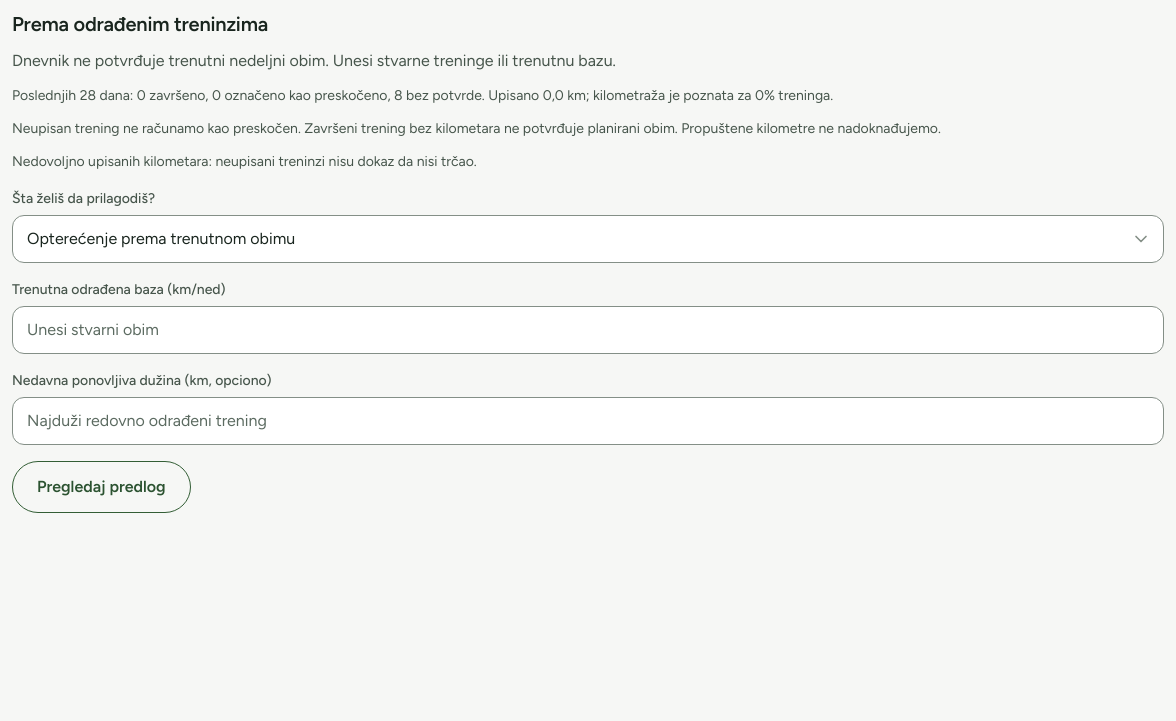
ExecutionAdjustment › pregled prikazuje preostali obim, minute kvalitetnog rada i zahtevne dane
Type "30" into the number field labelled "Trenutna odrađena baza (km/ned)". click: (588, 330)
box: [12,306,1164,354]
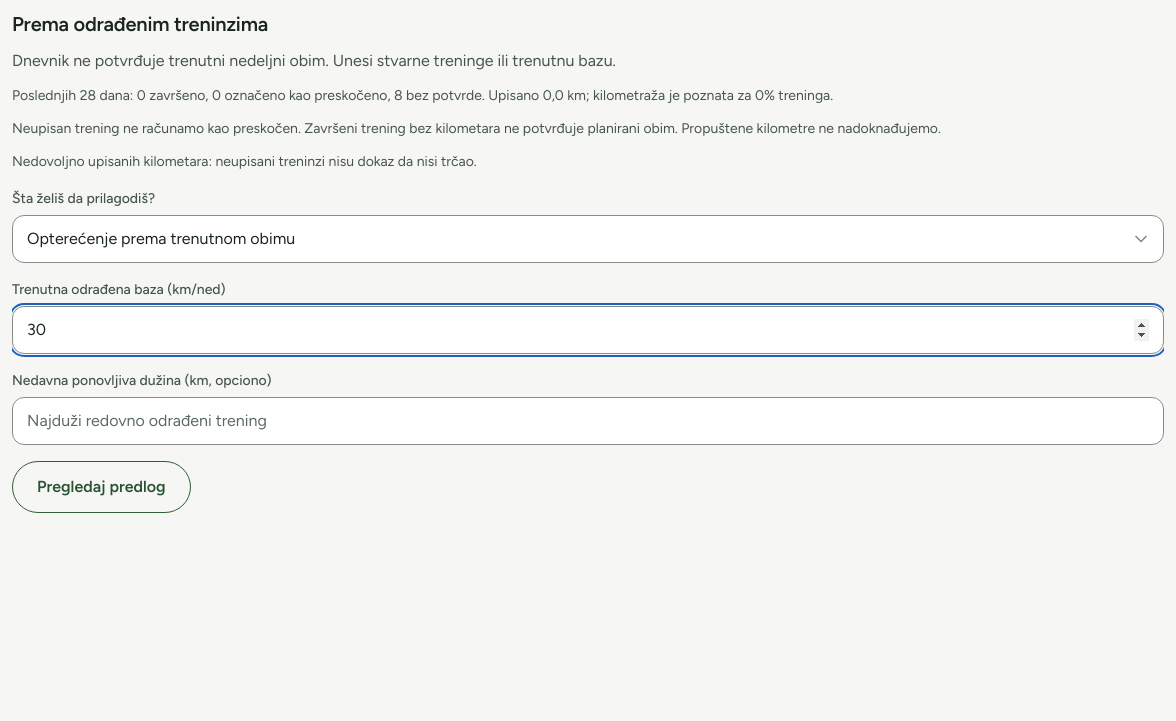
Click the button "Pregledaj predlog". click: (101, 487)
box: [12,461,191,513]
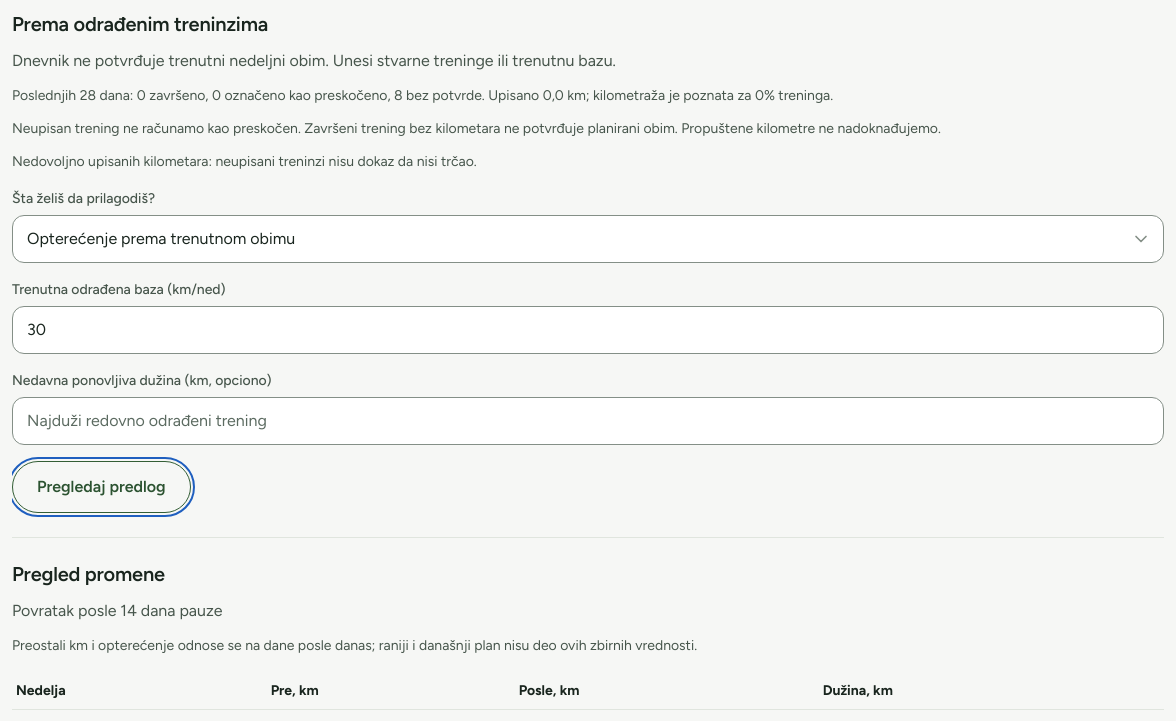
Expected: the text "Preostali km i opterećenje" shows "dane posle danas", [12,637,697,654]
